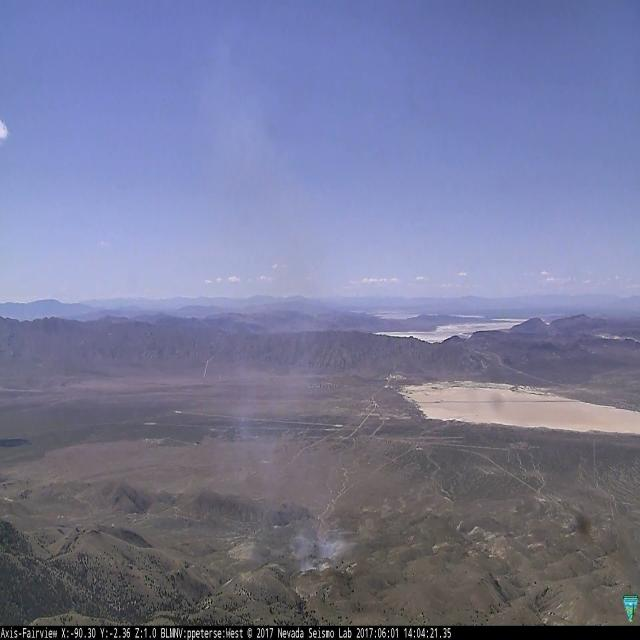smoke: (294, 527, 349, 572)
